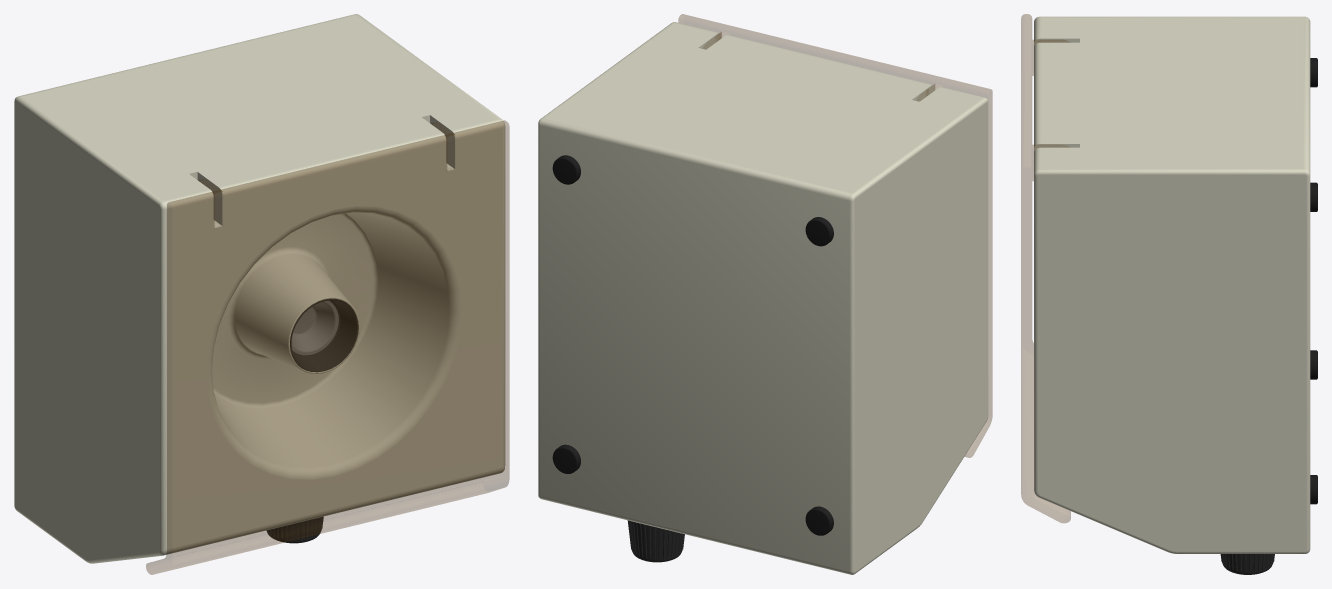
The model's file is Cadnav_A0812_Centrifuge_01.fbx.
3 renders of one model, left to right at view 1: azimuth 30°, elevation 25°; view 2: azimuth 150°, elevation 25°; view 3: azimuth 270°, elevation 25°, orthographic. The views are drawn at different scales.
Visible parts, largest first — view 1: Centrifuge_01 (×4); view 2: Centrifuge_01 (×4); view 3: Centrifuge_01 (×4).
Boxes of the visible parts, left/top/right/bottom form: Centrifuge_01 (×4): left=14, top=14, right=509, bottom=574; Centrifuge_01 (×4): left=538, top=14, right=992, bottom=574; Centrifuge_01 (×4): left=1021, top=14, right=1317, bottom=574.
Bounding box in the file's own units: 78.74 × 104 × 63.39.
